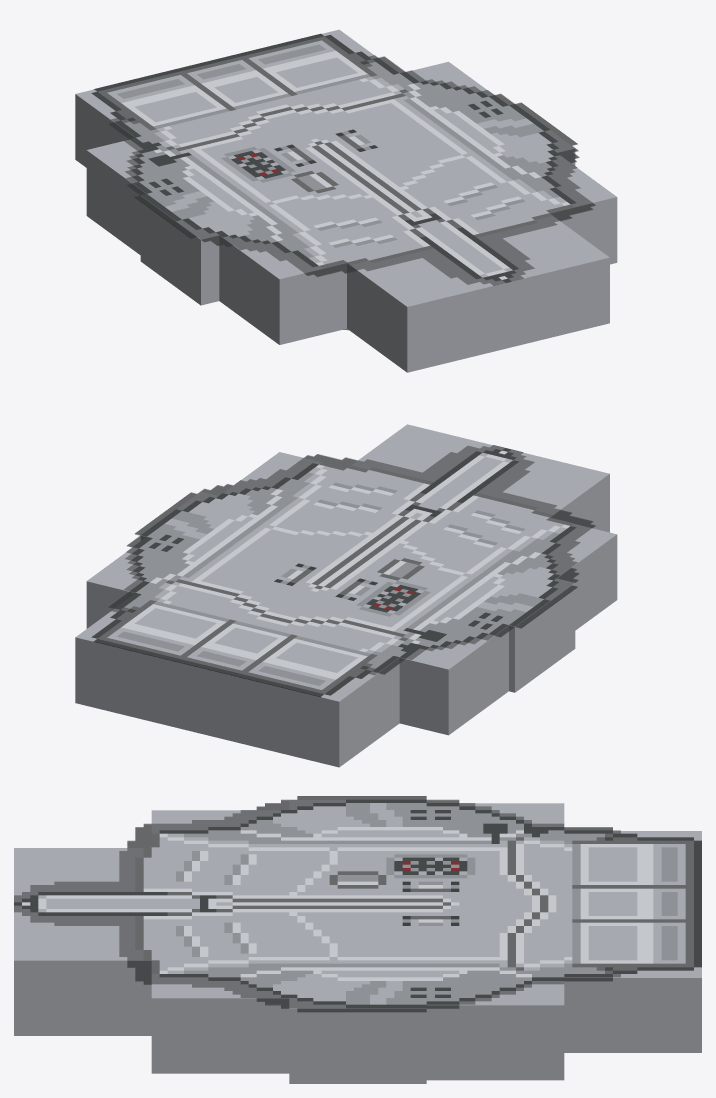
The model's file is CMU3DReduxVehicleTankTurretPMCMounted.glb.
The picture shows the model from 3 angles, top to bottom: view 1: azimuth 30°, elevation 25°; view 2: azimuth 150°, elevation 25°; view 3: azimuth 270°, elevation 25°; orthographic projection. The views are drawn at different scales.
Parts seen in each view (by area): view 1: turret original finish, turret section (×5); view 2: turret original finish, turret section (×5); view 3: turret original finish, turret section (×5).
Part boxes in pixels (<box>): turret original finish: <box>91,33,595,285</box>; turret section (×5): <box>75,29,617,372</box>; turret original finish: <box>91,445,595,696</box>; turret section (×5): <box>75,424,617,767</box>; turret original finish: <box>14,796,701,1012</box>; turret section (×5): <box>14,800,701,1083</box>.
Bounding box in the file's own units: 1.97 × 0.542 × 2.66.
2 materials, 1 textured.
